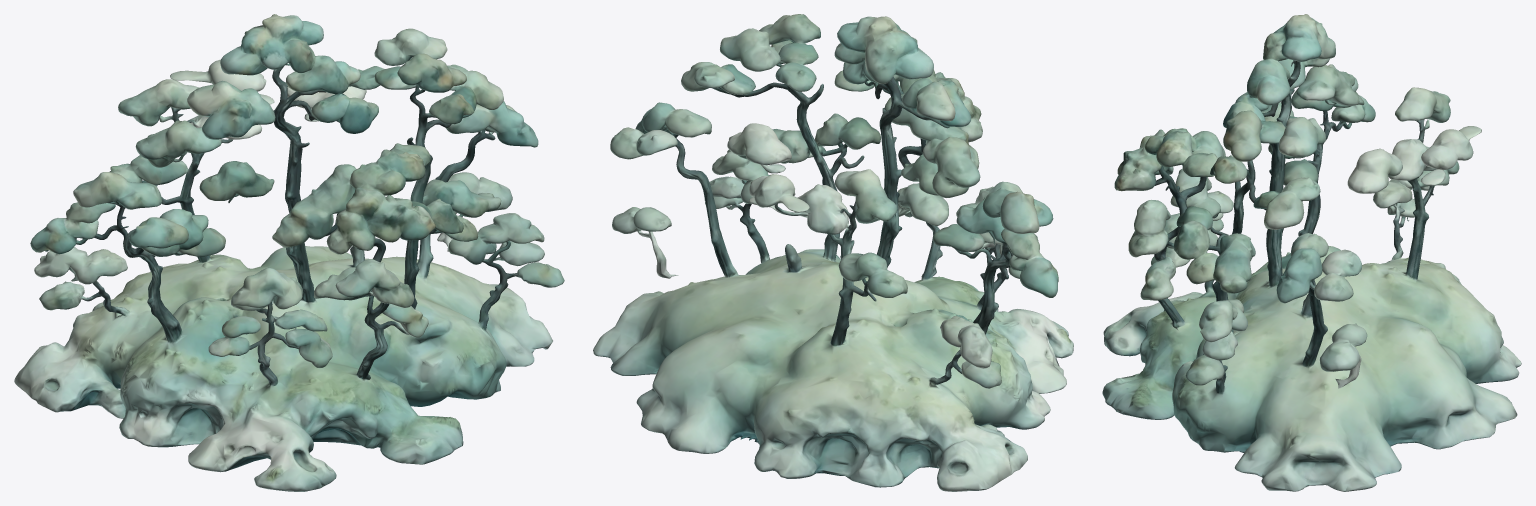
File: moon_forestisland.glb
3 renders of one model, left to right at view 1: azimuth 30°, elevation 25°; view 2: azimuth 150°, elevation 25°; view 3: azimuth 270°, elevation 25°, orthographic. The views are drawn at different scales.
Visible parts, largest first — view 1: tripo_node_10c5bf3f-8efe-41ef-8b87-ed6714a6639e; view 2: tripo_node_10c5bf3f-8efe-41ef-8b87-ed6714a6639e; view 3: tripo_node_10c5bf3f-8efe-41ef-8b87-ed6714a6639e.
Part boxes in pixels (x1,y1,x2,y2): tripo_node_10c5bf3f-8efe-41ef-8b87-ed6714a6639e: (14,14,564,491); tripo_node_10c5bf3f-8efe-41ef-8b87-ed6714a6639e: (593,14,1073,491); tripo_node_10c5bf3f-8efe-41ef-8b87-ed6714a6639e: (1102,14,1521,491).
Bounding box in the file's own units: 0.9795 × 0.7503 × 0.7944.
Materials: 1 (1 with a texture image).
